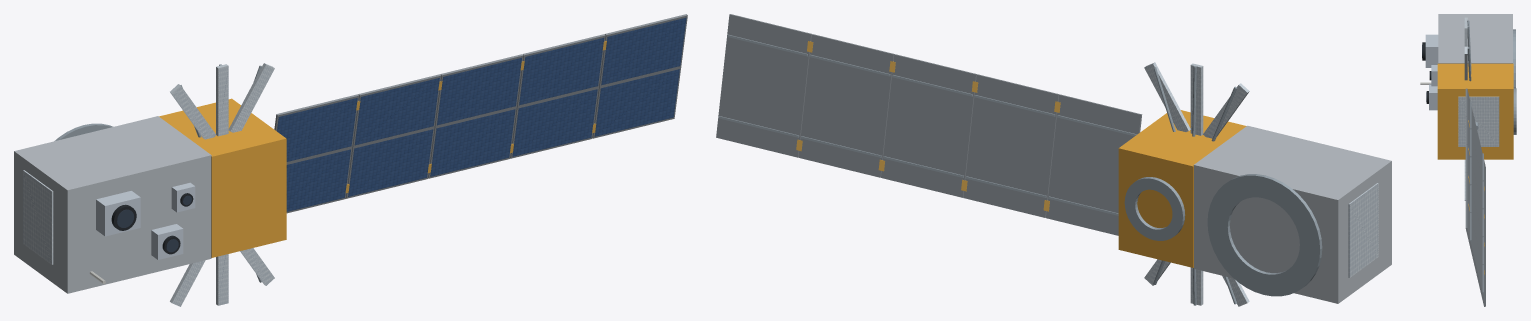
File: metop-c.glb
3 views of the same model, side by side, from view 1: azimuth 30°, elevation 25°; view 2: azimuth 150°, elevation 25°; view 3: azimuth 270°, elevation 25° (orthographic). The views are drawn at different scales.
Visible parts, largest first — view 1: Solar cell strings (×10), Spacecraft body (×2), Solar panel substrate (×5), ASCAT fan-beam antenna (×6), Thermal radiator tiles, IASI sounder housing, GOME-2 housing, AVHRR housing; view 2: Solar panel substrate (×5), Spacecraft body (×2), Launch interface (×2), ASCAT fan-beam antenna (×3), Thermal radiator tiles; view 3: Spacecraft body (×2), Solar panel substrate (×5), Thermal radiator tiles, IASI sounder housing, Launch interface (×2), ASCAT fan-beam antenna (×3), GOME-2 housing, ASCAT support (×2), AVHRR housing.
Part boxes in pixels (<box>): Solar cell strings (×10): <box>277,17,686,211</box>; Spacecraft body (×2): <box>14,98,286,293</box>; Solar panel substrate (×5): <box>274,14,687,213</box>; ASCAT fan-beam antenna (×6): <box>170,63,274,306</box>; Thermal radiator tiles: <box>23,170,53,264</box>; IASI sounder housing: <box>96,191,140,236</box>; GOME-2 housing: <box>151,224,183,259</box>; AVHRR housing: <box>171,182,195,212</box>; Solar panel substrate (×5): <box>716,14,1142,235</box>; Spacecraft body (×2): <box>1118,110,1391,303</box>; Launch interface (×2): <box>1124,174,1322,296</box>; ASCAT fan-beam antenna (×3): <box>1144,62,1249,138</box>; Thermal radiator tiles: <box>1348,183,1378,277</box>; Spacecraft body (×2): <box>1437,14,1513,159</box>; Solar panel substrate (×5): <box>1465,88,1485,306</box>; Thermal radiator tiles: <box>1458,96,1499,146</box>; IASI sounder housing: <box>1425,34,1438,67</box>; Launch interface (×2): <box>1513,29,1516,134</box>; ASCAT fan-beam antenna (×3): <box>1464,25,1467,200</box>; GOME-2 housing: <box>1429,84,1437,110</box>; ASCAT support (×2): <box>1467,26,1471,81</box>; AVHRR housing: <box>1431,65,1437,86</box>.
Bounding box in the file's own units: 17.63 × 6.24 × 3.3.
Materials: 11 (2 with a texture image).
